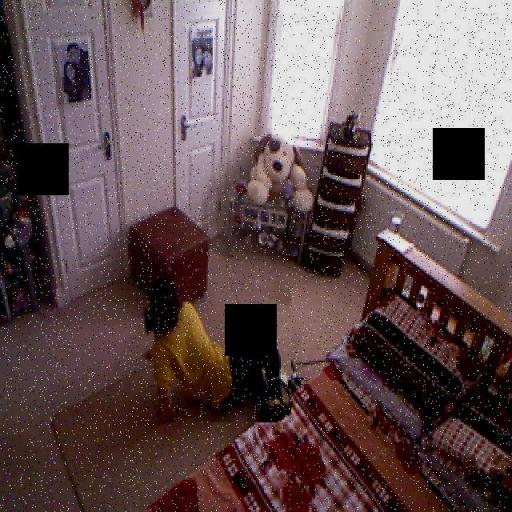Fall: (141, 273, 291, 422)
